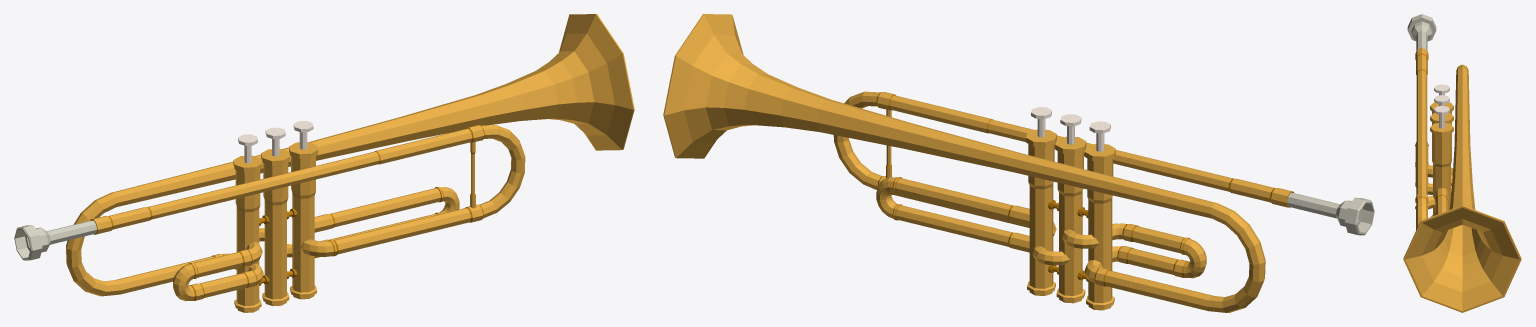
The model's file is Low_poly_trumpet.glb.
3 views of the same model, side by side, from view 1: azimuth 30°, elevation 25°; view 2: azimuth 150°, elevation 25°; view 3: azimuth 270°, elevation 25° (orthographic). The views are drawn at different scales.
Parts seen in each view (by area): view 1: Trumpet_0, buttons; view 2: Trumpet_0, buttons; view 3: Trumpet_0, buttons.
Boxes of the visible parts, bbox=[...] form: Trumpet_0: bbox=[14, 14, 634, 312]; buttons: bbox=[238, 121, 313, 163]; Trumpet_0: bbox=[663, 14, 1374, 312]; buttons: bbox=[1031, 107, 1110, 151]; Trumpet_0: bbox=[1403, 14, 1521, 312]; buttons: bbox=[1434, 84, 1449, 128].
Size of the model in its own units: 9.72 by 3.04 by 2.12.
2 materials, 2 textured.
